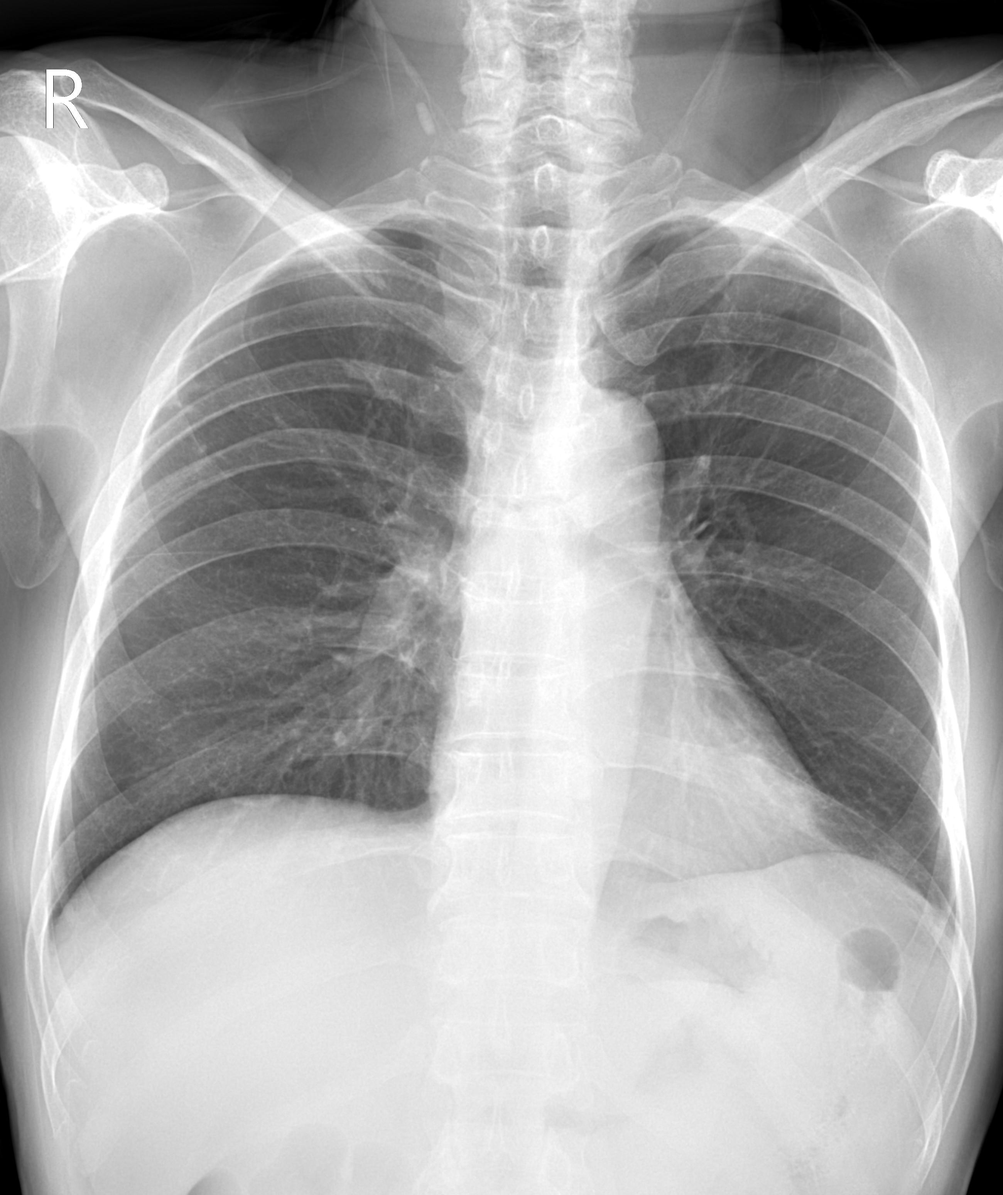Aortic enlargement: (543, 384, 662, 491)
Pulmonary fibrosis: (166, 379, 203, 450)
